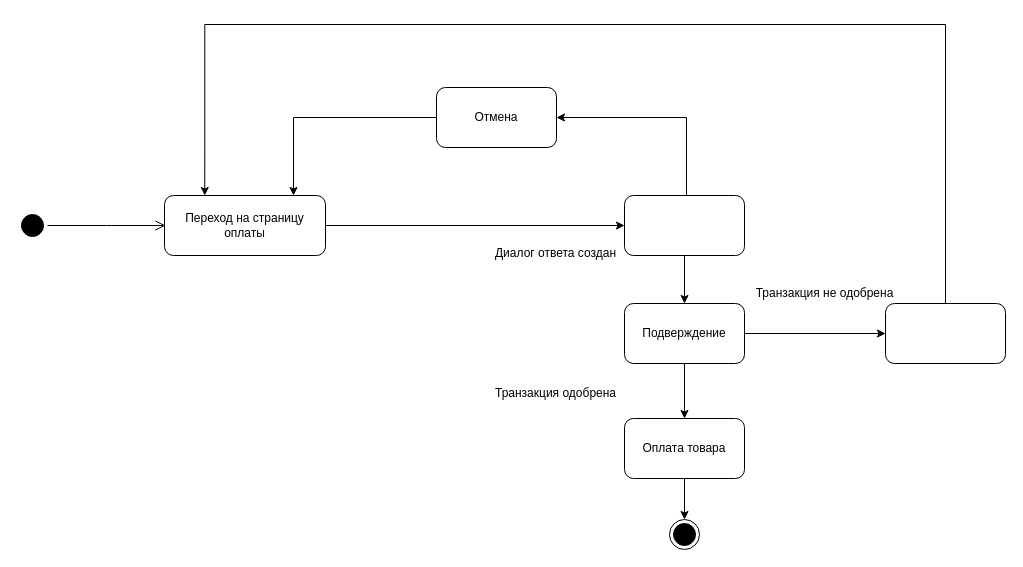
Image size: 1023x567. Some labels were removed from this diagram. The box of each missing label's shape, as (x1, y1, x2, y2) in pixels:
"Недостаточно средств на счету": (884, 302, 1006, 364)
Ввод реквизитов: (624, 194, 744, 256)
